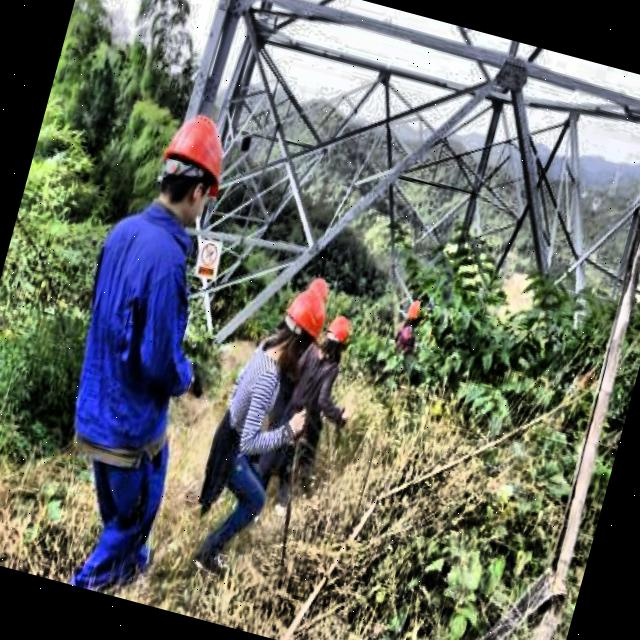helmet: (137, 98, 246, 242), (270, 282, 328, 370), (320, 312, 353, 362)
